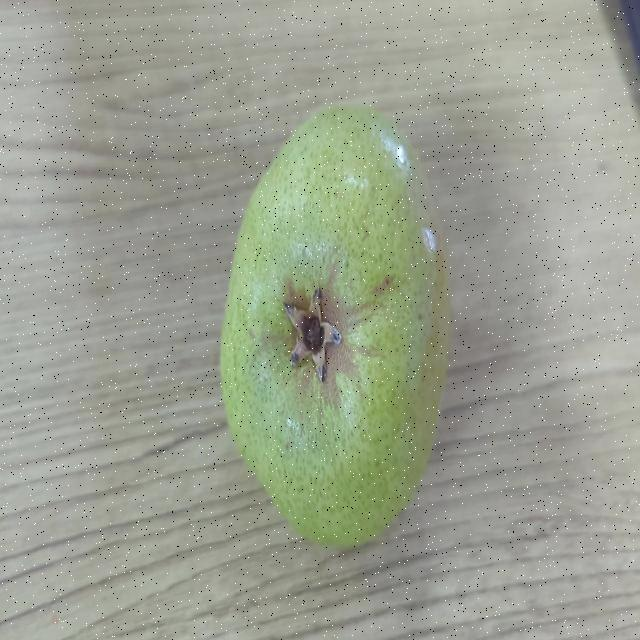Pir: (203, 90, 452, 542)
